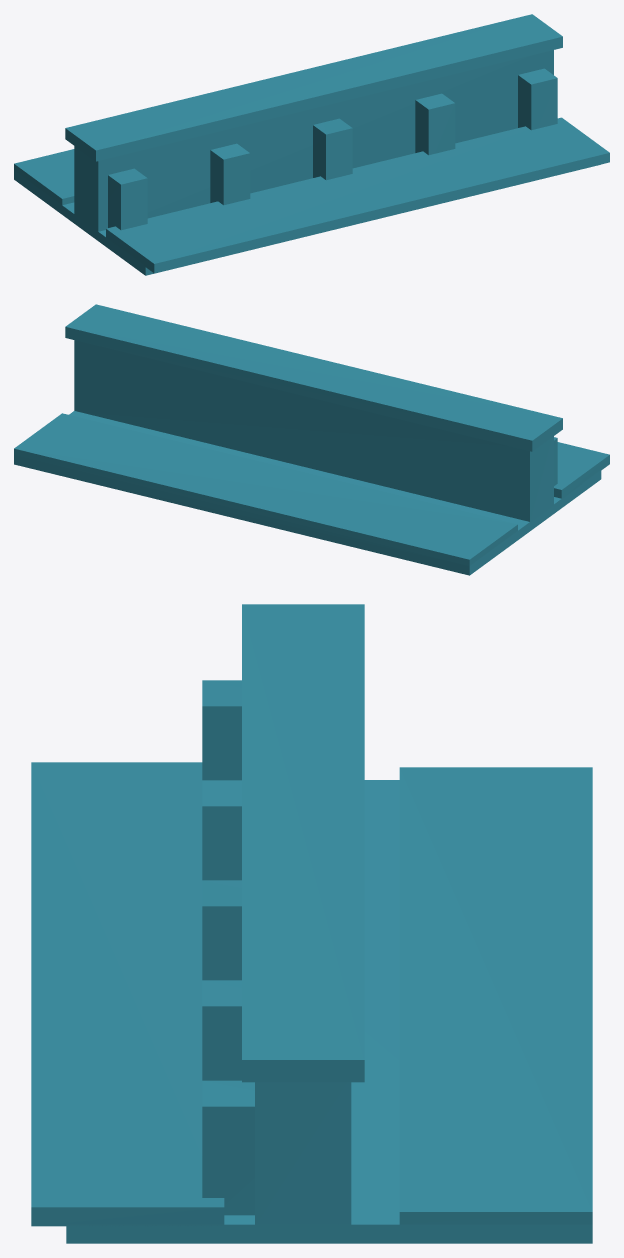
Rendered from Seawall.glb.
3 renders of one model, top to bottom at view 1: azimuth 30°, elevation 25°; view 2: azimuth 150°, elevation 25°; view 3: azimuth 270°, elevation 25°, orthographic. The views are drawn at different scales.
Visible parts, largest first — view 1: seawall-static-seawall-concrete, seawall-static-seawall-mark, seawall-static-seawall-cap, seawall-static-seawall-water, seawall-static-seawall-earth; view 2: seawall-static-seawall-concrete, seawall-static-seawall-water, seawall-static-seawall-cap, seawall-static-seawall-earth, seawall-static-seawall-mark; view 3: seawall-static-seawall-water, seawall-static-seawall-mark, seawall-static-seawall-cap, seawall-static-seawall-concrete, seawall-static-seawall-earth.
Boxes of the visible parts, x1,y1,x2,y2 form: seawall-static-seawall-concrete: [74, 50, 557, 231]; seawall-static-seawall-mark: [106, 117, 609, 273]; seawall-static-seawall-cap: [65, 14, 562, 161]; seawall-static-seawall-water: [14, 149, 74, 205]; seawall-static-seawall-earth: [14, 164, 600, 275]; seawall-static-seawall-concrete: [74, 340, 557, 522]; seawall-static-seawall-water: [14, 413, 517, 565]; seawall-static-seawall-cap: [65, 304, 562, 451]; seawall-static-seawall-earth: [14, 411, 601, 575]; seawall-static-seawall-mark: [554, 442, 609, 498]; seawall-static-seawall-water: [399, 767, 592, 1224]; seawall-static-seawall-mark: [31, 762, 224, 1226]; seawall-static-seawall-cap: [242, 604, 364, 1082]; seawall-static-seawall-concrete: [202, 680, 351, 1226]; seawall-static-seawall-earth: [66, 780, 592, 1243].
Size of the model in its own units: 6.15 by 1.19 by 3.2.
